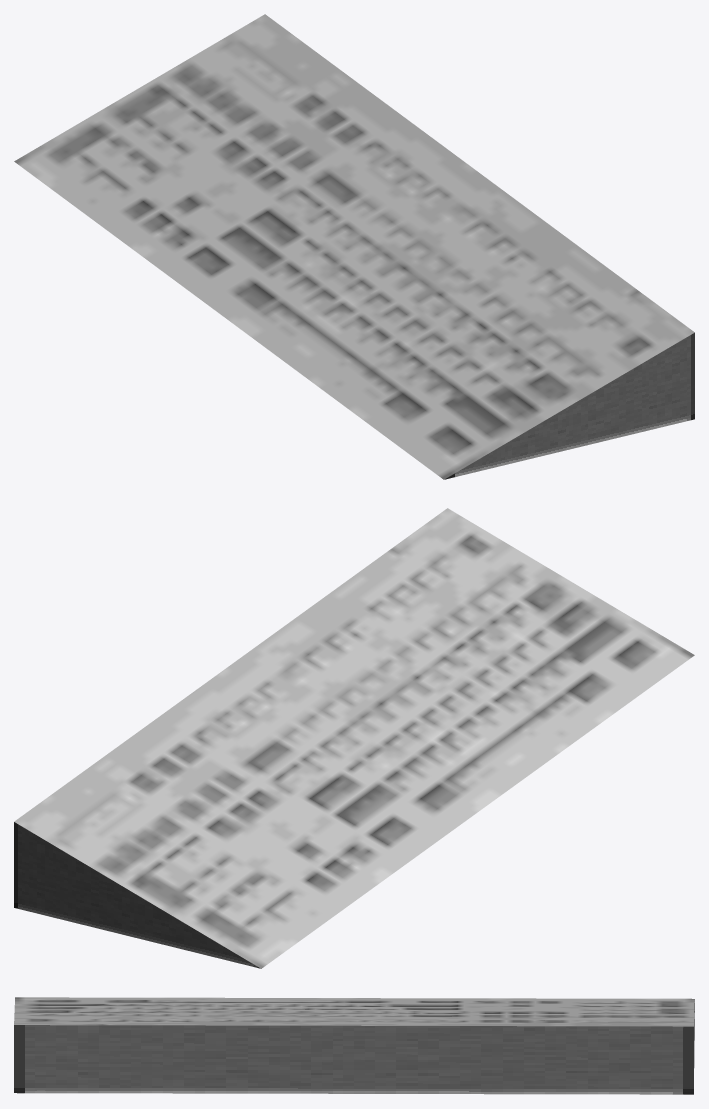
File: primary_048.glb
3 renders of one model, top to bottom at view 1: azimuth 30°, elevation 25°; view 2: azimuth 150°, elevation 25°; view 3: azimuth 270°, elevation 25°, orthographic. The views are drawn at different scales.
Parts seen in each view (by area): view 1: Object; view 2: Object; view 3: Object.
Boxes of the visible parts, bbox=[...] form: Object: bbox=[14, 14, 694, 479]; Object: bbox=[14, 508, 694, 968]; Object: bbox=[14, 997, 694, 1094].
Bounding box in the file's own units: 0.201 × 0.0656 × 0.5948.
Materials: 4 (4 with a texture image).
